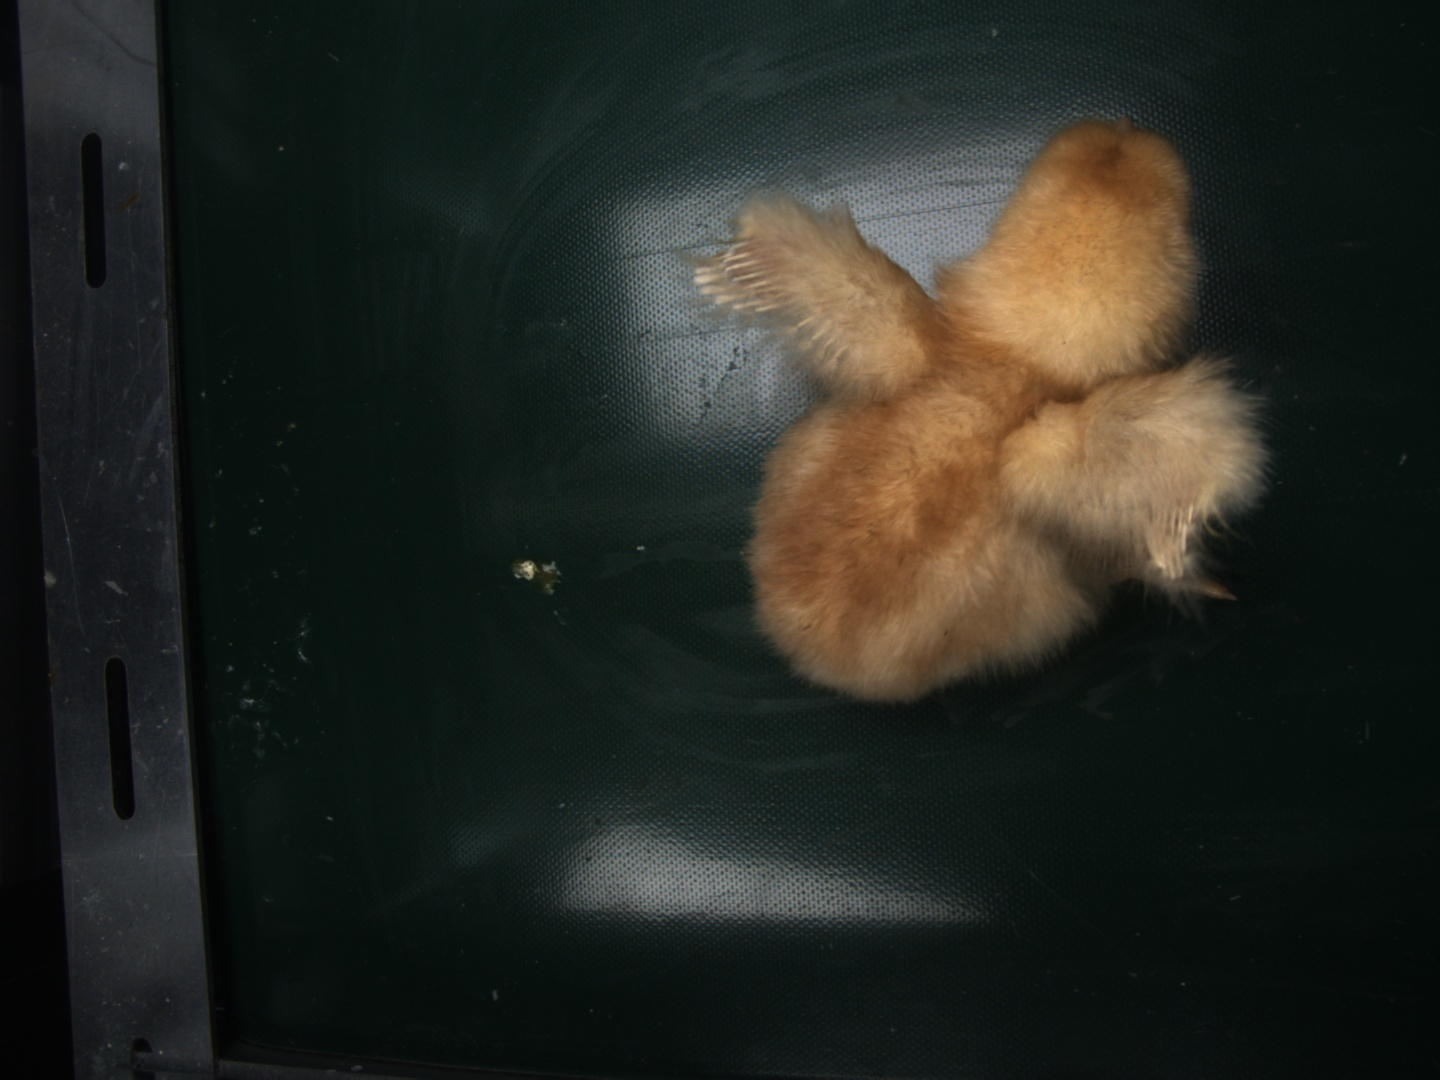female: (695, 236, 788, 314)
